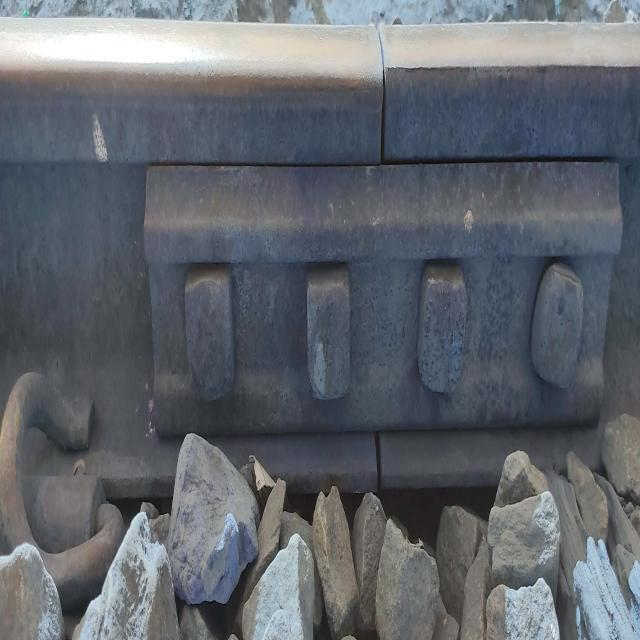Good Fasteners: (0, 350, 124, 601)
Good Joint: (140, 161, 619, 440)
